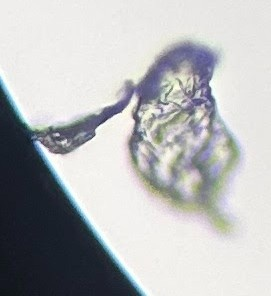microplastic: (27, 40, 244, 236)
